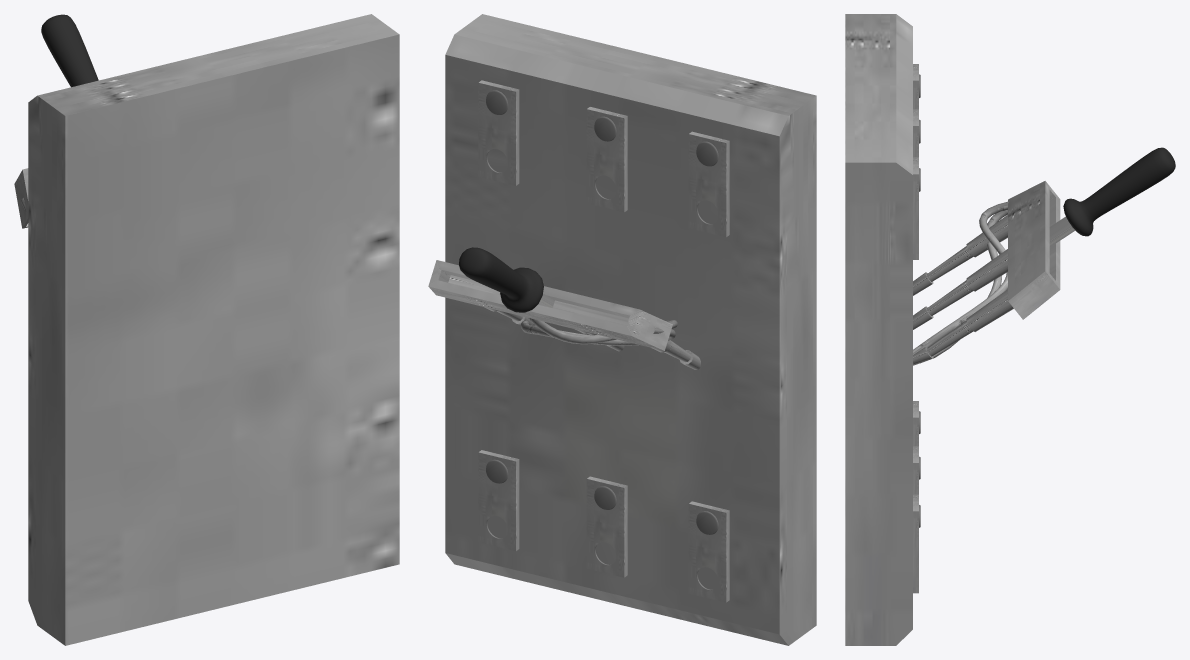
The model's file is PALANCA.fbx.
3 views of the same model, side by side, from view 1: azimuth 30°, elevation 25°; view 2: azimuth 150°, elevation 25°; view 3: azimuth 270°, elevation 25° (orthographic). The views are drawn at different scales.
Visible parts, largest first — view 1: Cube.357, Cylinder.037; view 2: Cube.357, Cylinder.037; view 3: Cube.357, Cylinder.037.
Boxes of the visible parts, x1,y1,x2,y2 form: Cube.357: [28, 14, 399, 645]; Cylinder.037: [14, 14, 98, 228]; Cube.357: [445, 14, 816, 645]; Cylinder.037: [428, 247, 700, 369]; Cube.357: [845, 14, 920, 645]; Cylinder.037: [913, 147, 1175, 365].
Bounding box in the file's own units: 180 × 272 × 169.
